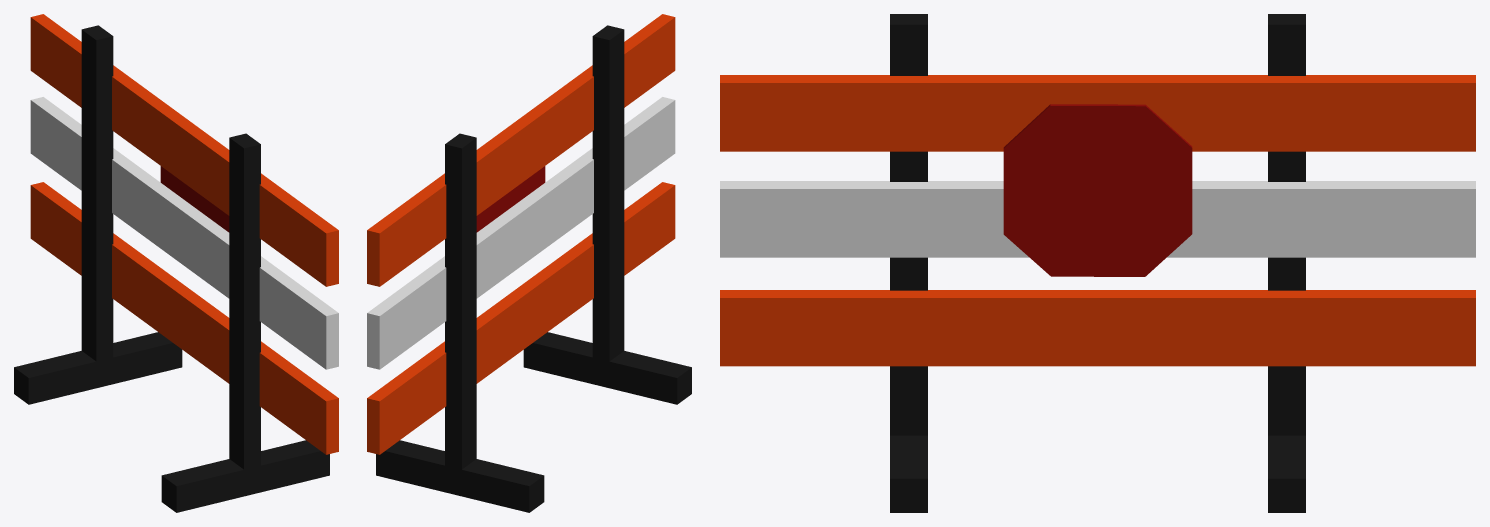
The model's file is roadblock 1.fbx.
3 views of the same model, side by side, from view 1: azimuth 30°, elevation 25°; view 2: azimuth 150°, elevation 25°; view 3: azimuth 270°, elevation 25° (orthographic). The views are drawn at different scales.
Parts seen in each view (by area): view 1: Plane.001; view 2: Plane.001; view 3: Plane.001.
Boxes of the visible parts, x1,y1,x2,y2 form: Plane.001: (14, 14, 338, 512); Plane.001: (367, 14, 691, 512); Plane.001: (720, 14, 1475, 512).
Bounding box in the file's own units: 60 × 130 × 200.
